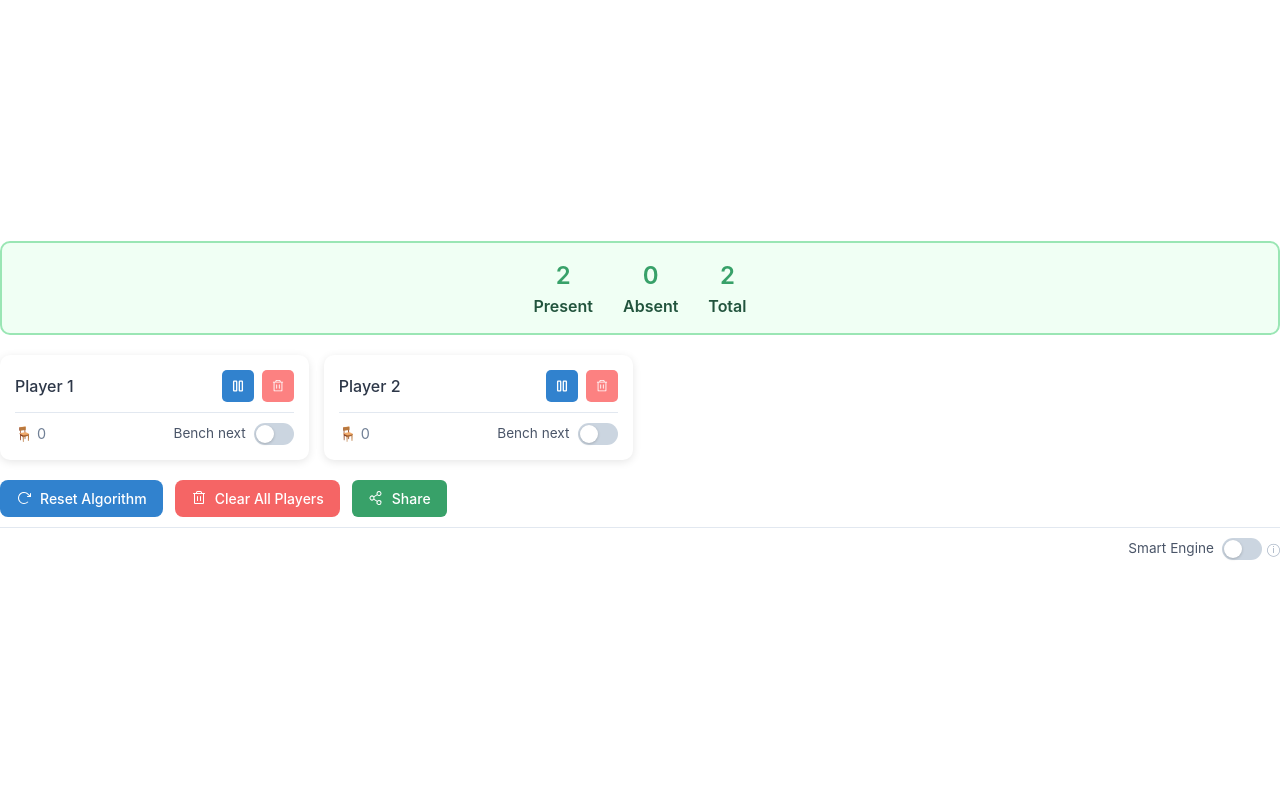
it: PlayerList Component › Clear All Players Functionality › opens confirmation modal when clear all button is clicked
The width and height of the screenshot is (1280, 800).
What coordinates should you click on to do the following:
click the button "Clear All Players"
I would click on:
 (257, 498)
Its box is [175,480,340,516].
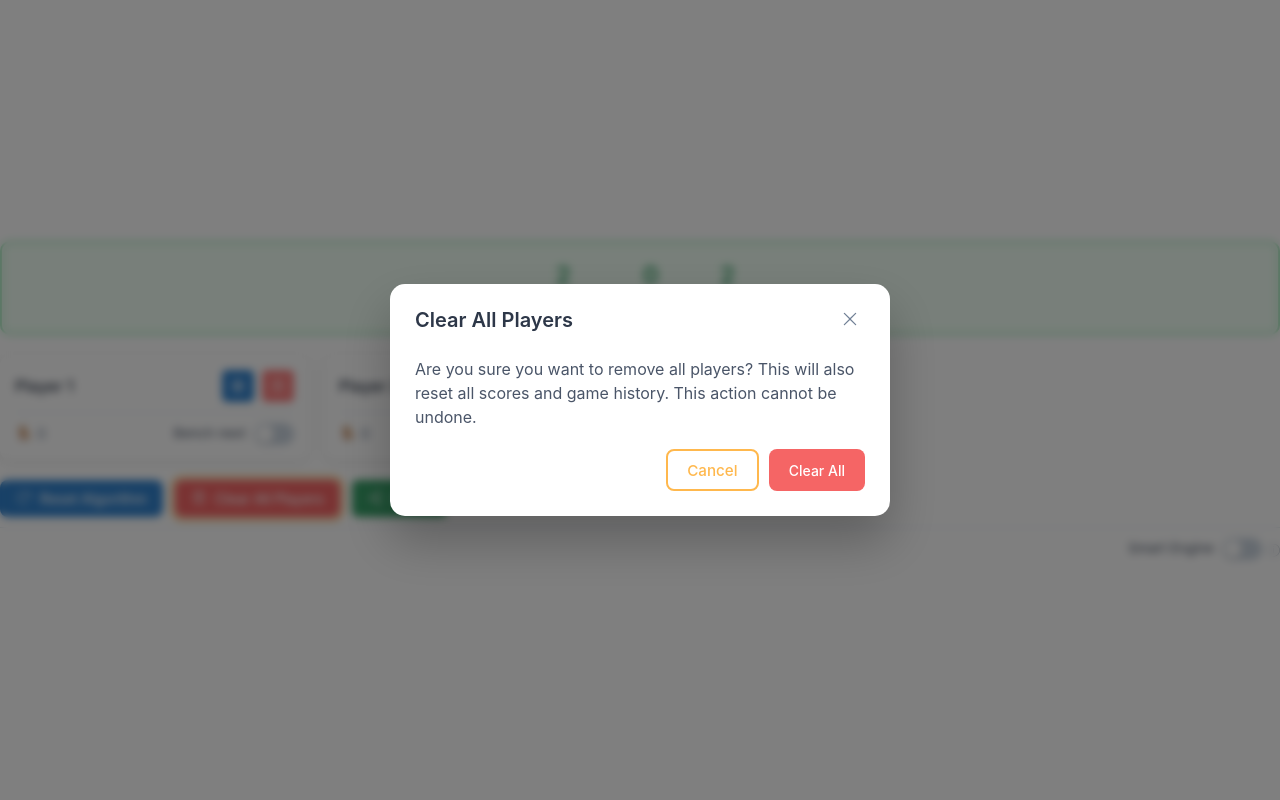
Result: the heading "Clear All Players" is shown at [415,305,573,335]
Result: the text "Are you sure you want to remove all players" is shown at [415,359,854,427]
Result: the button "Clear All" is shown at [769,449,865,491]
